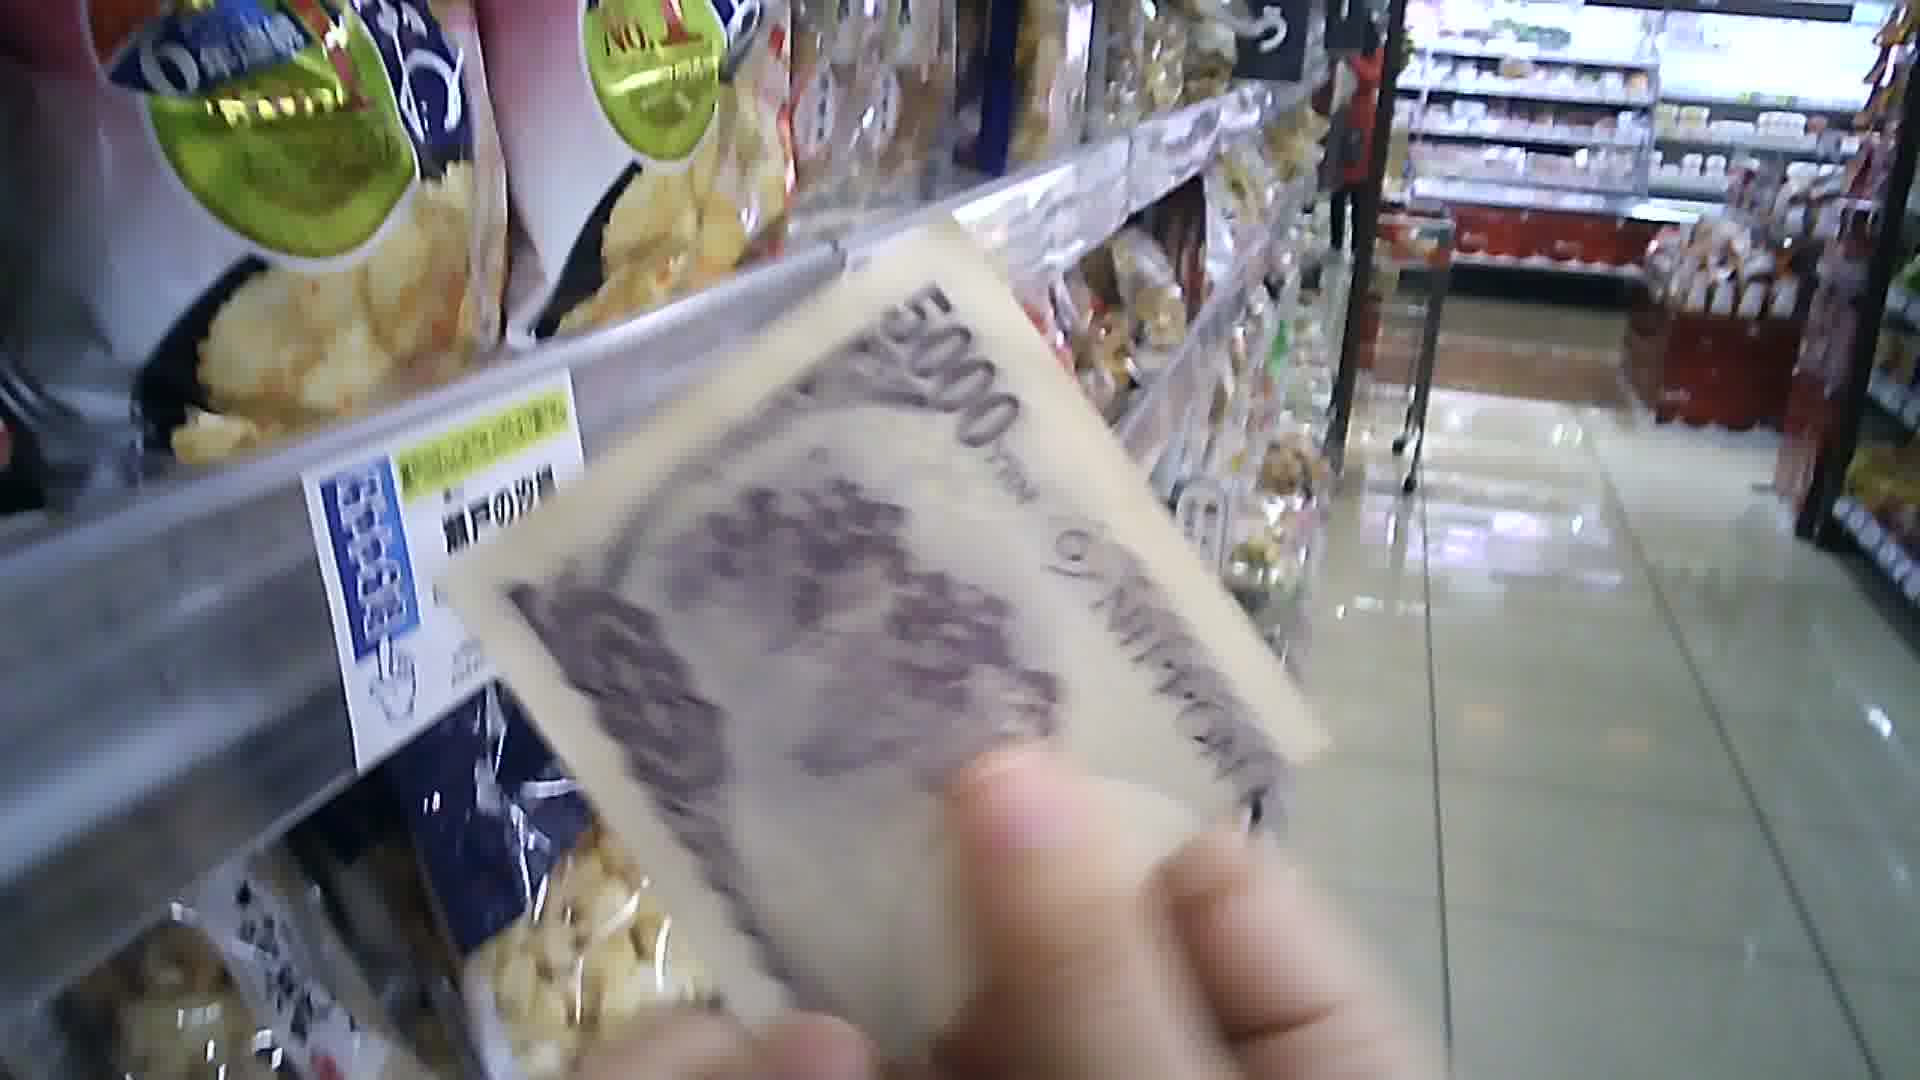5,000 Yen: (473, 219, 1348, 1077)
